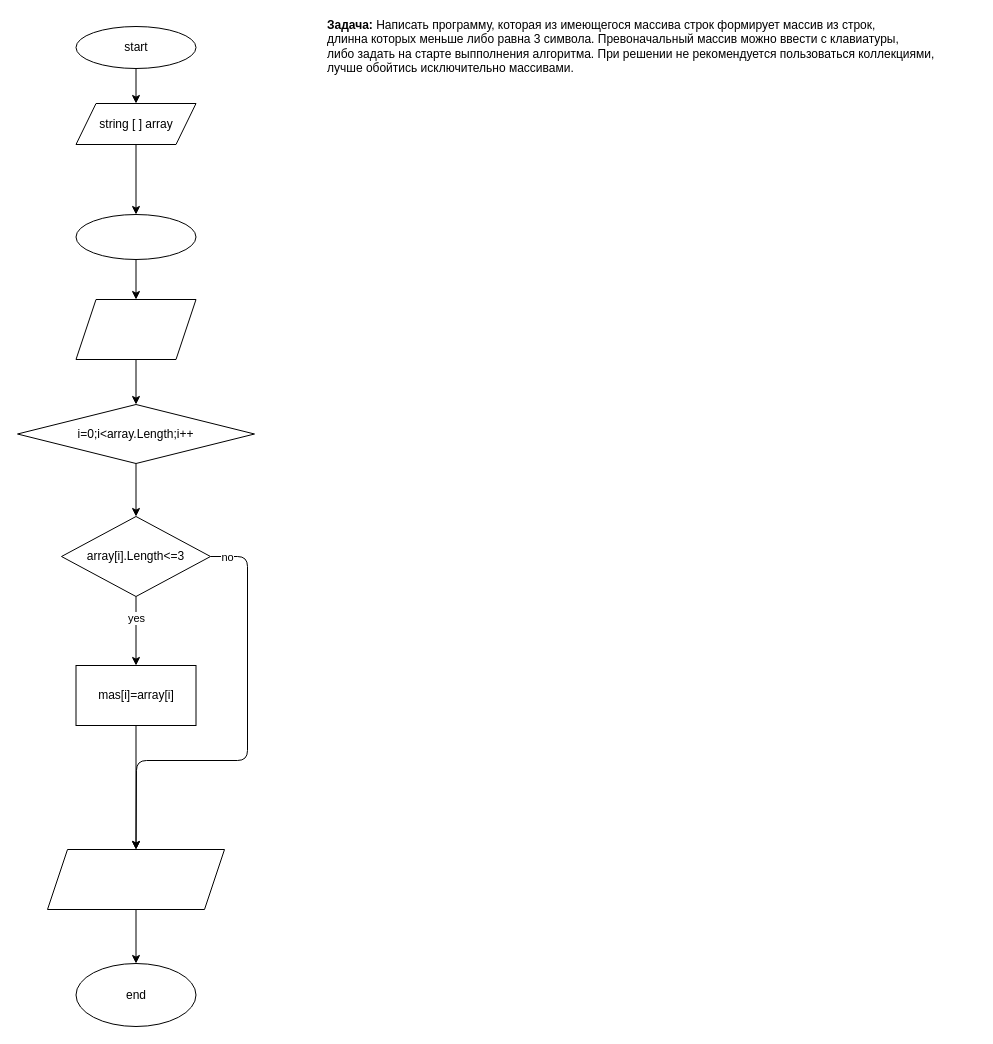
Some shapes in this 993 by 1044 pixel diagram are drawn without their labels. The shapes that lost their labels are listed below. From the top down, each one's centre as x and y in pixels, then its label:
At (x=135, y=237): "InitArray".
At (x=135, y=329): "string [ ] mas".
At (x=135, y=879): "Вывод на консоль mas[i]".
